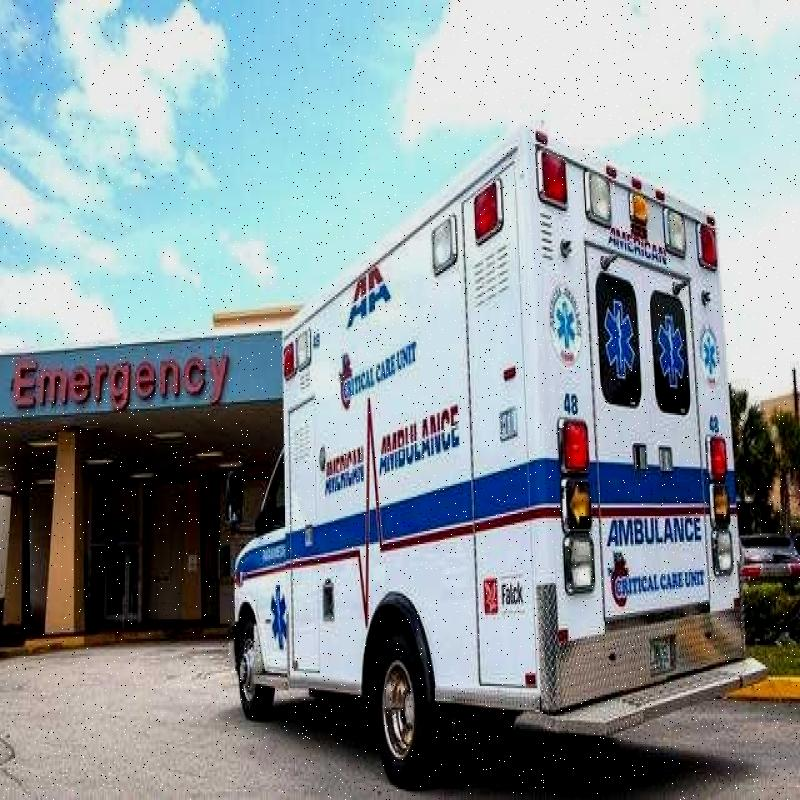AmbulanceSiren: (530, 137, 733, 264)
